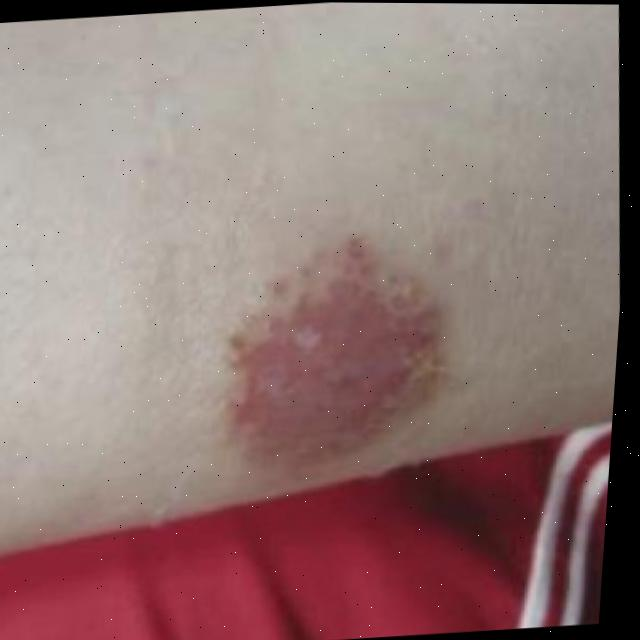Eczema: (201, 229, 465, 485)
